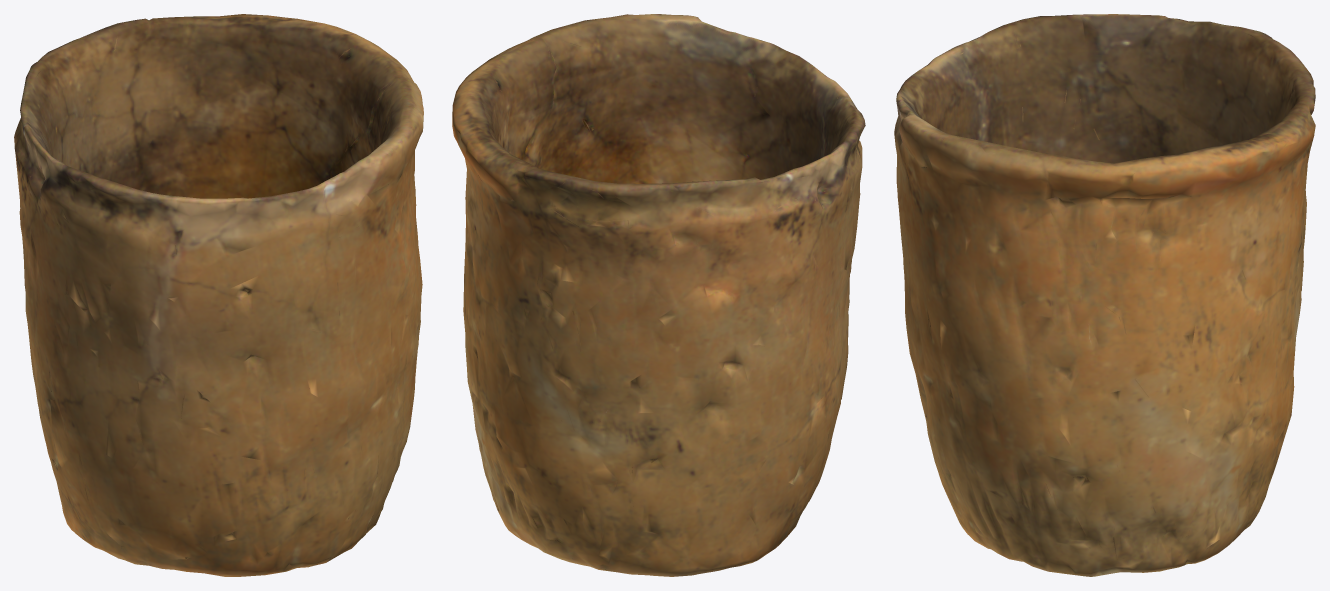
The picture shows the model from 3 angles, left to right: view 1: azimuth 30°, elevation 25°; view 2: azimuth 150°, elevation 25°; view 3: azimuth 270°, elevation 25°; orthographic projection. The views are drawn at different scales.
Parts seen in each view (by area): view 1: IN0148_low; view 2: IN0148_low; view 3: IN0148_low.
Boxes of the visible parts, x1,y1,x2,y2 form: IN0148_low: (14, 14, 423, 576); IN0148_low: (452, 14, 865, 576); IN0148_low: (894, 14, 1315, 576).
Bounding box in the file's own units: 86.31 × 100 × 87.87.
Materials: 1 (1 with a texture image).
